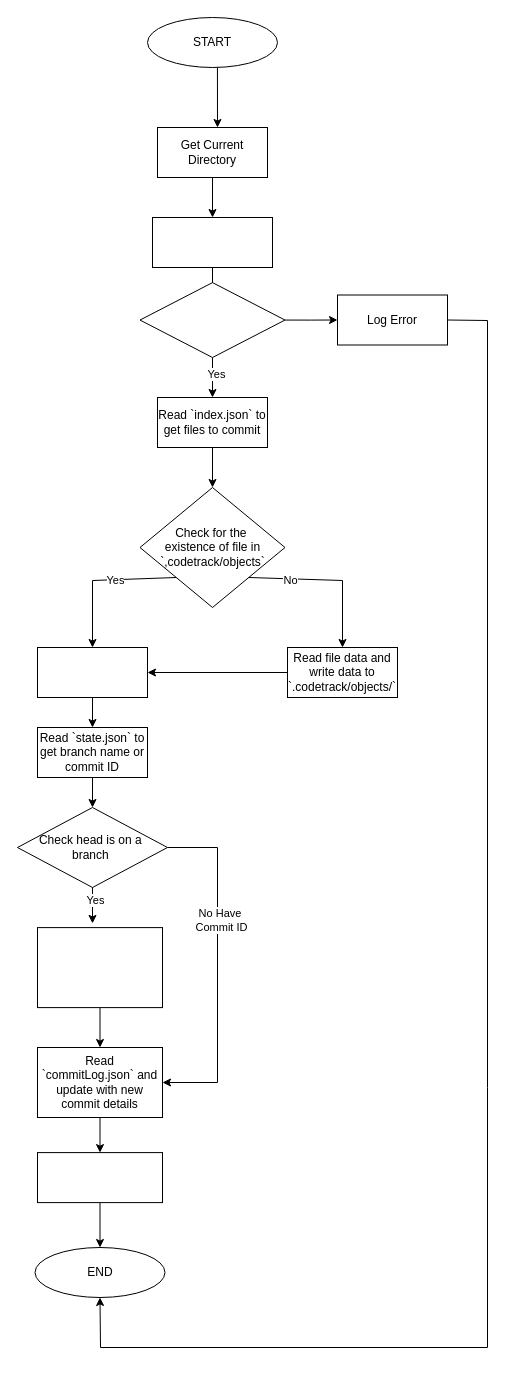
Some shapes in this 513 by 1373 pixel diagram are drawn without their labels. The centre of each missing label's shape, as x and y in pixels:
"Ensure state of r epository correct or not" belongs at point 212,320.
"Get Commit message from Command line arguments" belongs at point 212,242.
"Update `branchHead.json` with new commit ID" belongs at point 99,967.
"Write index to `.codetrack/indices/`" belongs at point 92,672.
"Write Updated `commitLog.json`" belongs at point 99,1177.
